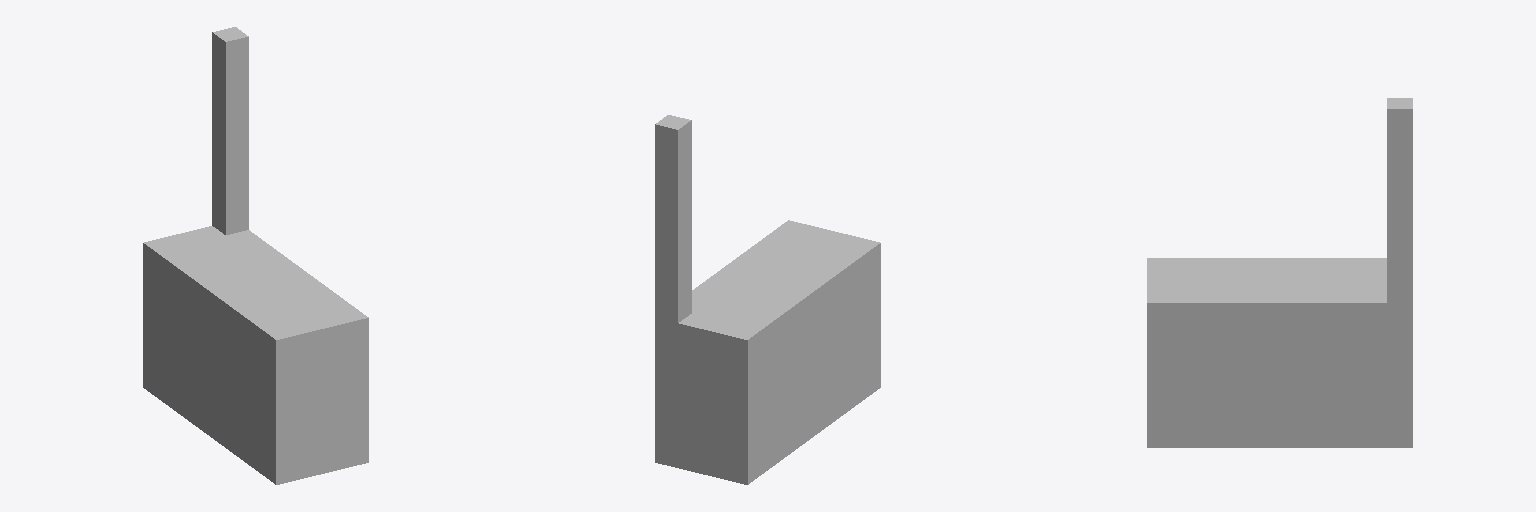
Rendered from radio.obj.
3 renders of one model, left to right at view 1: azimuth 30°, elevation 25°; view 2: azimuth 150°, elevation 25°; view 3: azimuth 270°, elevation 25°, orthographic.
Visible parts, largest first — view 1: cuboid; view 2: cuboid; view 3: cuboid.
Part boxes in pixels (x1,y1,x2,y2): cuboid: (143, 27, 368, 484); cuboid: (655, 115, 880, 484); cuboid: (1147, 98, 1412, 447).
Size of the model in its own units: 0.75 by 2.62 by 1.88.